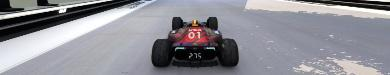Car: (150, 15, 239, 67)
